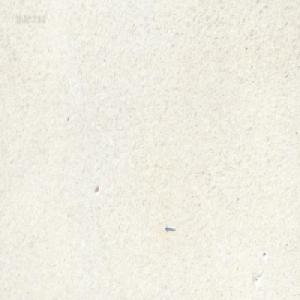Nail: (164, 224, 175, 232)
